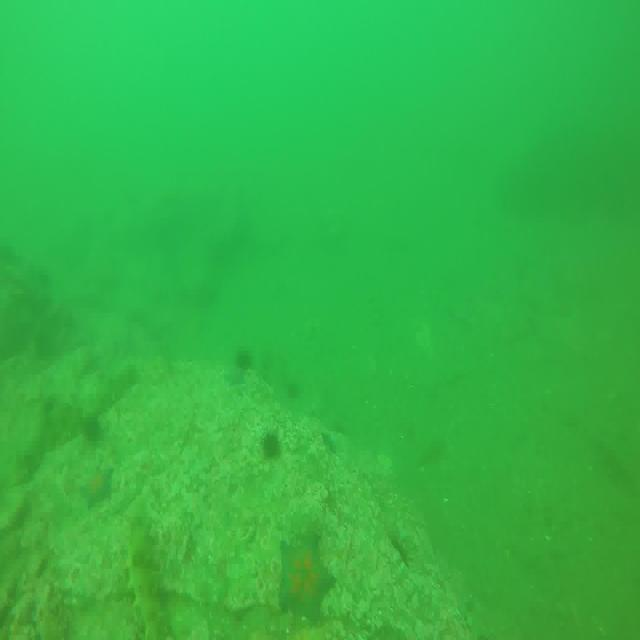echinus: (85, 414, 101, 440), (263, 435, 278, 462), (239, 351, 258, 369)
holothurian: (122, 524, 174, 640)
starfish: (278, 528, 331, 626), (79, 464, 115, 508), (224, 371, 248, 389)
